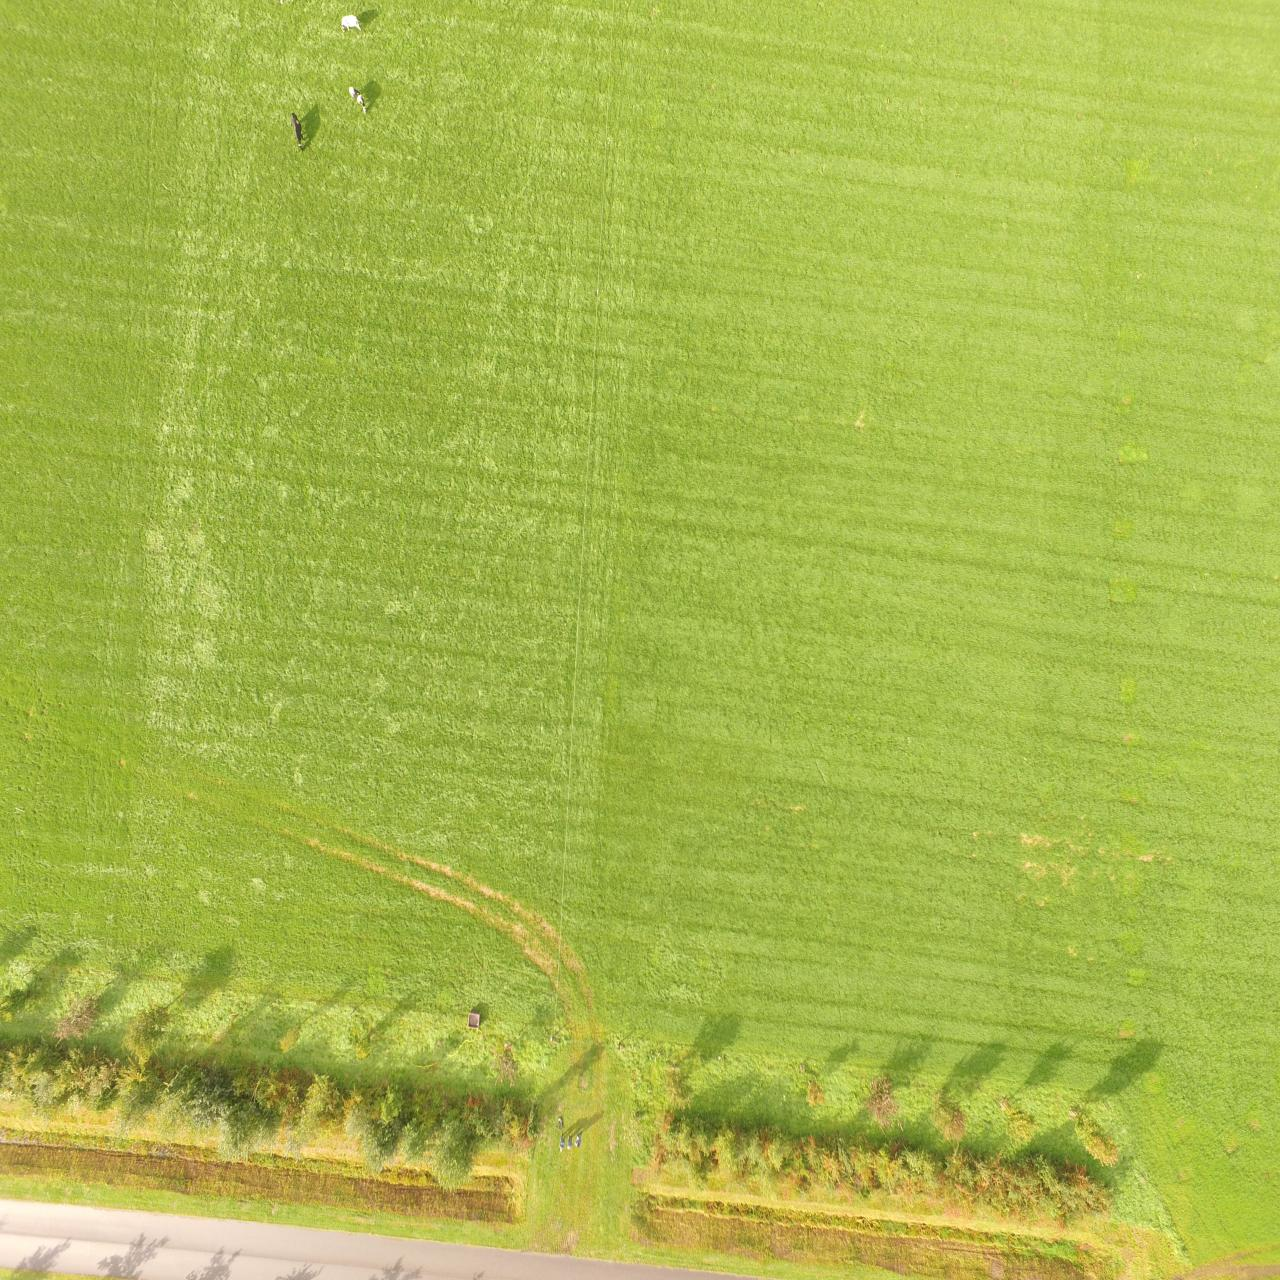cow: (347, 86, 367, 115), (291, 110, 305, 150), (341, 18, 362, 33)
